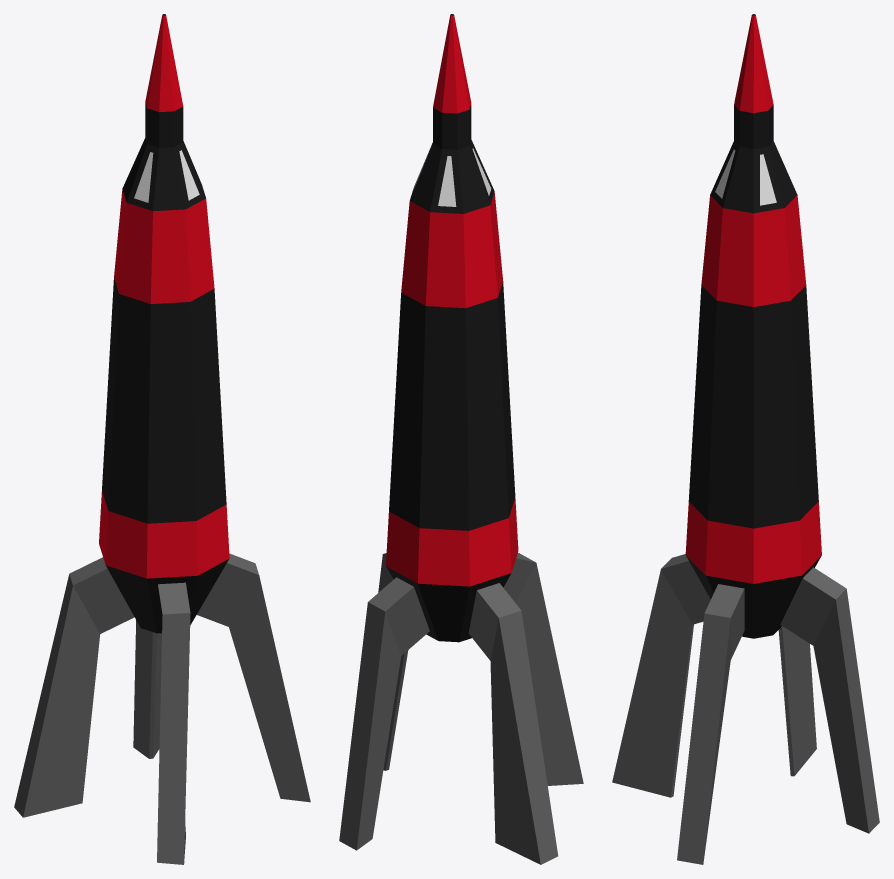
The model's file is rm_static_spacerocket.fbx.
3 renders of one model, left to right at view 1: azimuth 30°, elevation 25°; view 2: azimuth 150°, elevation 25°; view 3: azimuth 270°, elevation 25°, orthographic.
Parts seen in each view (by area): view 1: RM_Static_SpaceRocket; view 2: RM_Static_SpaceRocket; view 3: RM_Static_SpaceRocket.
Part boxes in pixels (<box>): RM_Static_SpaceRocket: <box>14,14,310,864</box>; RM_Static_SpaceRocket: <box>339,14,583,864</box>; RM_Static_SpaceRocket: <box>612,14,879,864</box>.
Bounding box in the file's own units: 1410 × 4400 × 1347.
